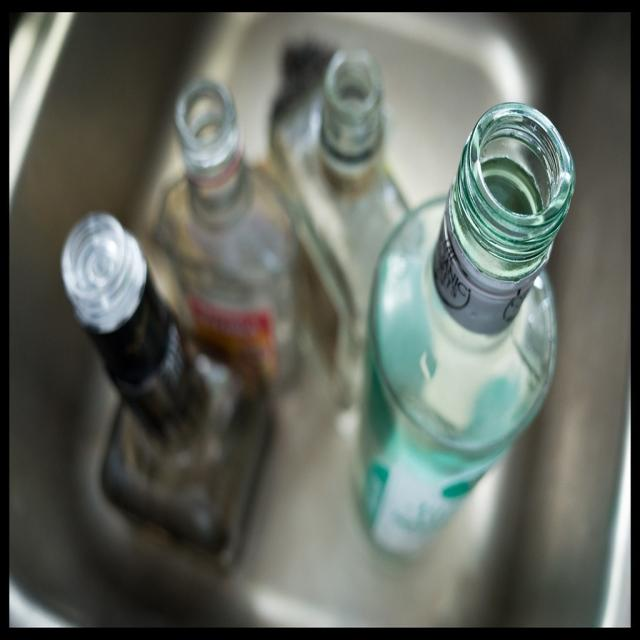Glass: (54, 54, 591, 581)
